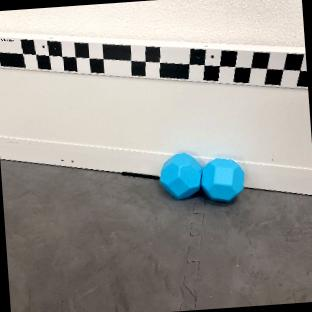V5_BLUE: (159, 150, 246, 203), (201, 157, 244, 201), (160, 152, 200, 198)
